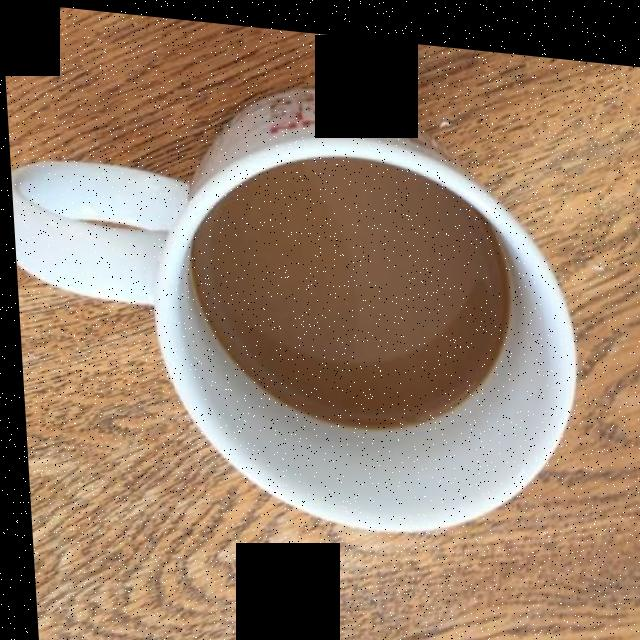coffee-with-caffeine: (190, 151, 506, 420)
